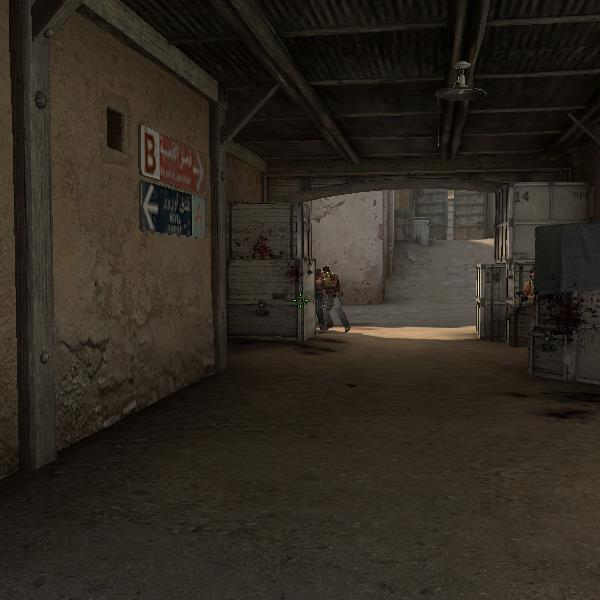t_body: (310, 261, 354, 339)
t_head: (319, 264, 335, 279)
